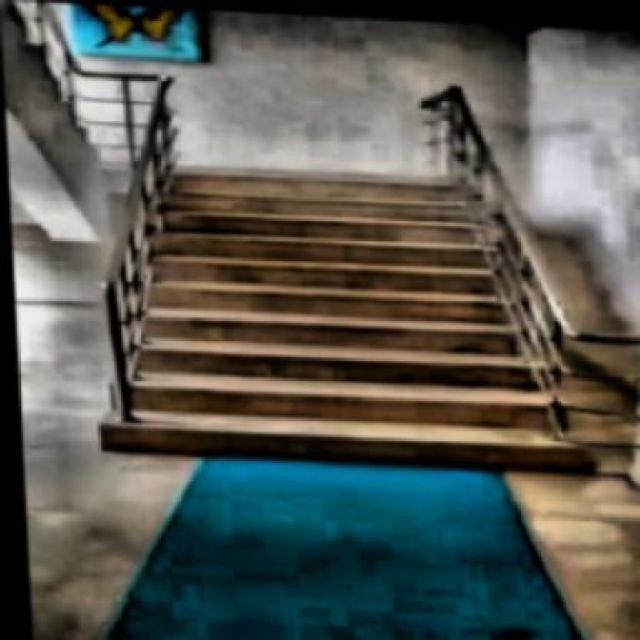stair: (120, 169, 586, 471)
